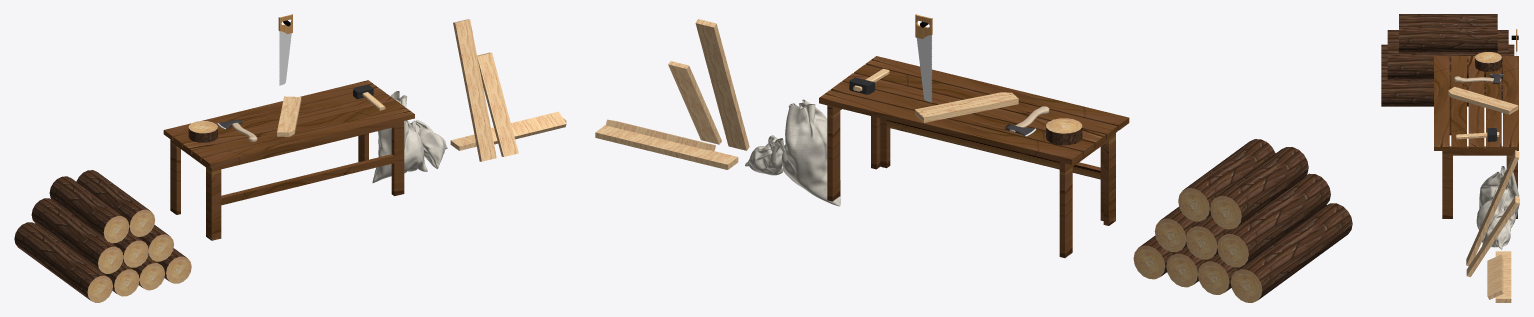
Rendered from Oficina .fbx.
The picture shows the model from 3 angles, left to right: view 1: azimuth 30°, elevation 25°; view 2: azimuth 150°, elevation 25°; view 3: azimuth 270°, elevation 25°; orthographic projection. The views are drawn at different scales.
Visible parts, largest first — view 1: Troncos, Bancada, Bancada.001, Bancada.003, Mini Bag.001, Cabo Serrote, Bancada.002, Troncos.001, Martelo; view 2: Troncos, Bancada, Bancada.003, Bancada.001, Mini Bag.001, Bancada.002, Cabo Serrote, Troncos.001, Martelo; view 3: Troncos, Bancada, Bancada.003, Mini Bag.001, Bancada.001, Bancada.002, Troncos.001, Martelo, Lamina Machado.
Boxes of the visible parts, x1,y1,x2,y2 form: Troncos: (14, 170, 191, 302); Bancada: (163, 80, 414, 168); Bancada.001: (170, 121, 404, 240); Bancada.003: (450, 19, 566, 161); Mini Bag.001: (372, 91, 447, 183); Cabo Serrote: (278, 14, 292, 85); Bancada.002: (277, 96, 301, 136); Troncos.001: (188, 121, 217, 142); Martelo: (353, 84, 385, 110); Troncos: (1133, 139, 1352, 302); Bancada: (819, 56, 1129, 164); Bancada.003: (595, 19, 749, 169); Bancada.001: (827, 105, 1115, 257); Mini Bag.001: (745, 99, 840, 206); Bancada.002: (915, 92, 1018, 122); Cabo Serrote: (915, 14, 932, 102); Troncos.001: (1046, 118, 1082, 145); Martelo: (849, 68, 889, 94); Troncos: (1381, 14, 1514, 106); Bancada: (1434, 56, 1518, 150); Bancada.003: (1466, 150, 1519, 302); Mini Bag.001: (1476, 166, 1519, 249); Bancada.001: (1442, 62, 1517, 218); Bancada.002: (1448, 87, 1518, 114); Troncos.001: (1475, 52, 1501, 71); Martelo: (1456, 128, 1499, 141); Lamina Machado: (1454, 74, 1503, 83).
Size of the model in its own units: 1106 by 269 by 350.
